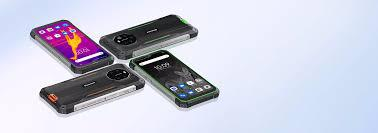Smartphone: (128, 52, 231, 118), (42, 66, 139, 125), (101, 12, 215, 61), (23, 18, 109, 77)
